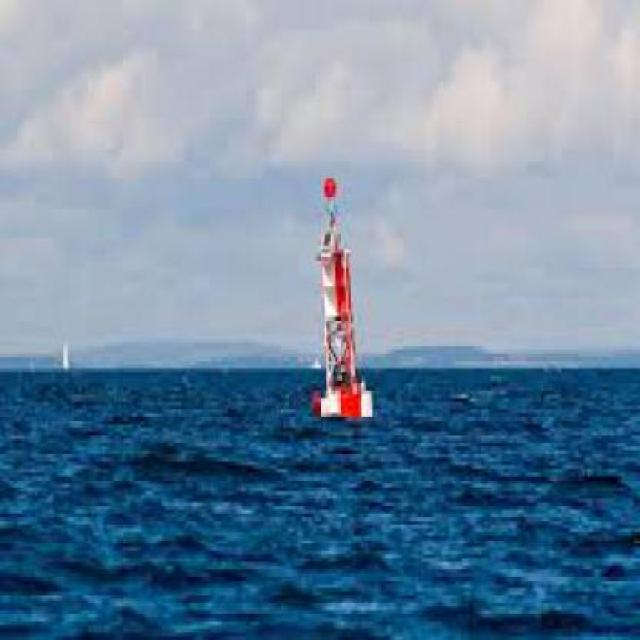buoy: (306, 157, 387, 448)
